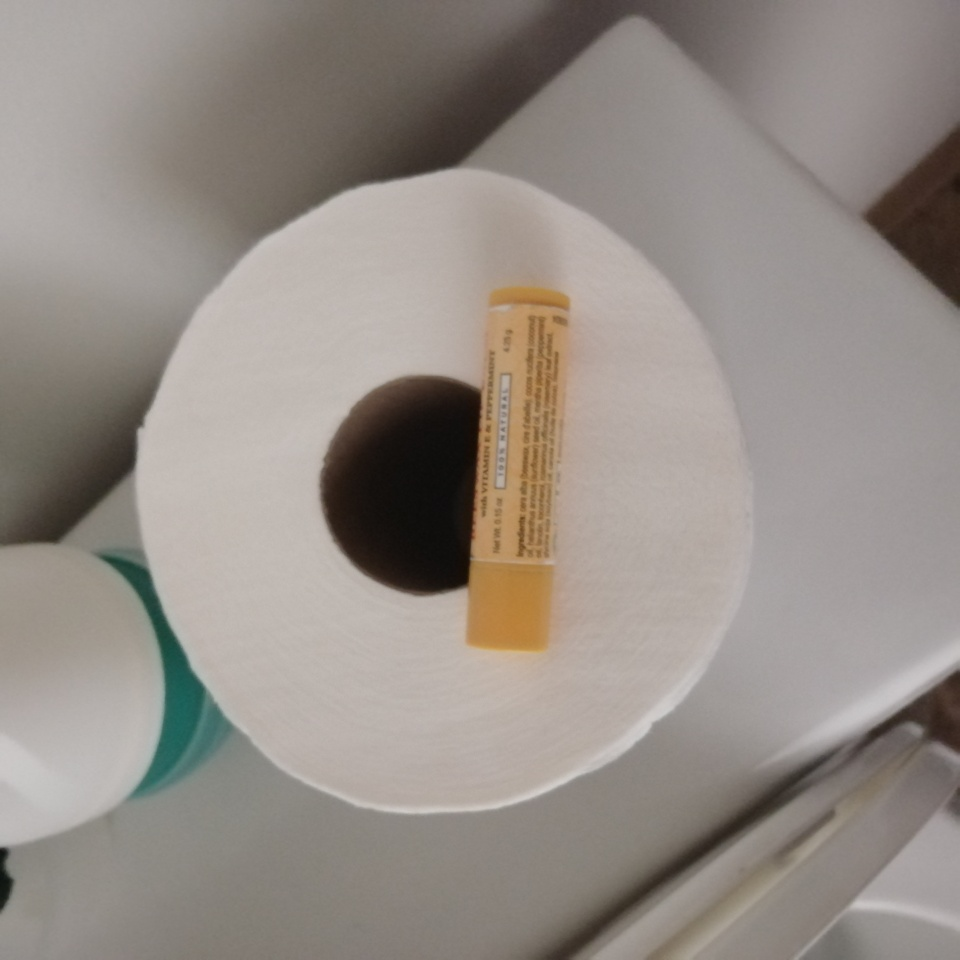chapstick: (465, 286, 573, 654)
